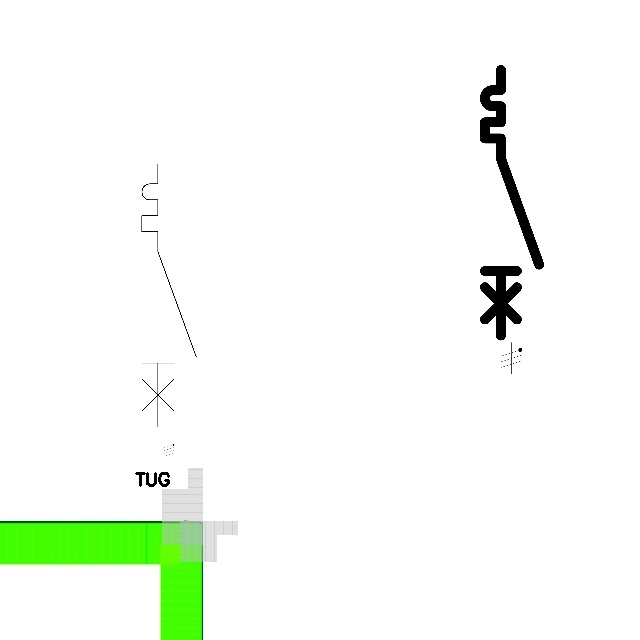interruptor_termomagnetico: (478, 63, 546, 342), (135, 157, 202, 434)
